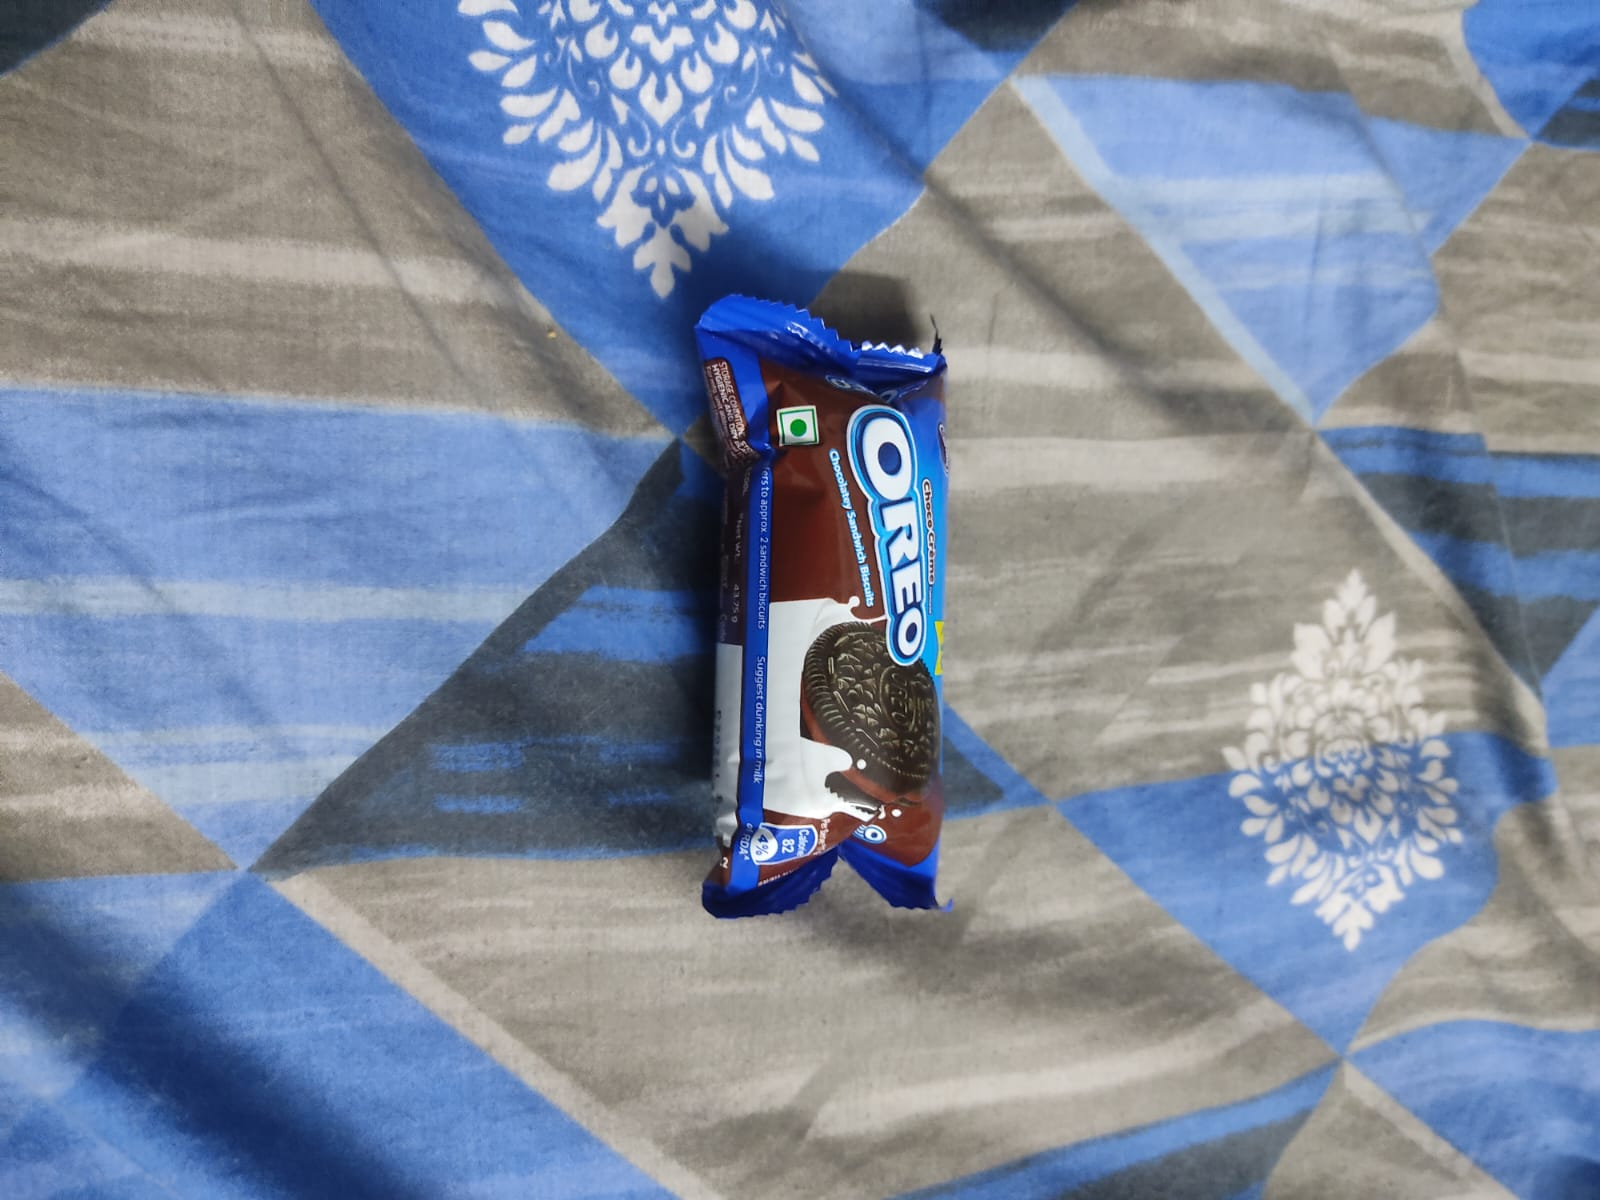010_Oreos: (711, 339, 951, 887)
